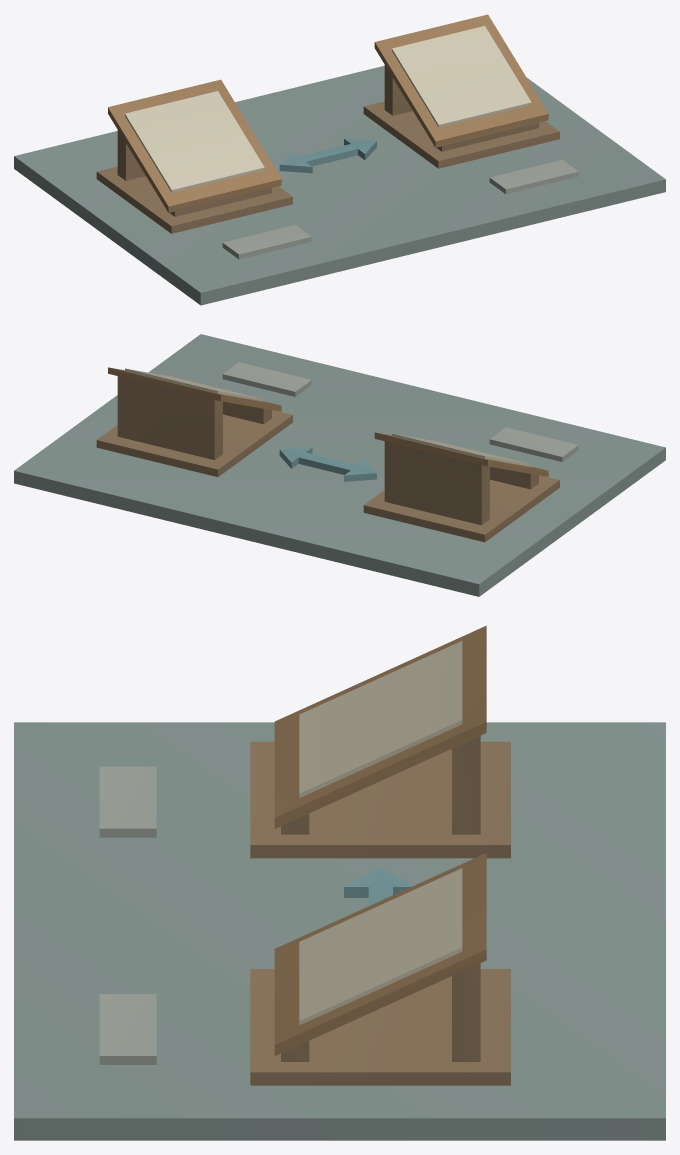
The model's file is letters-reading.glb.
3 views of the same model, one above another, from view 1: azimuth 30°, elevation 25°; view 2: azimuth 150°, elevation 25°; view 3: azimuth 270°, elevation 25° (orthographic). The views are drawn at different scales.
Parts seen in each view (by area): view 1: letters-reading-letters-modern-neutral-support, letters-reading-letters-modern-blank-document-comparison, letters-reading-letters-modern-blank-document-comparison.001, letters-reading-letters-original-plain-writing-wood.001, letters-reading-letters-original-plain-writing-wood, letters-reading-letters-original-modern-reading-stand, letters-reading-letters-original-modern-reading-stand.003, letters-reading-letters-modern-separate-reading-ends.001, letters-reading-letters-modern-separate-reading-ends, letters-reading-letters-modern-direction-marker, letters-reading-letters-original-modern-reading-stand.002, letters-reading-letters-original-modern-reading-stand.005 (+2 smaller); view 2: letters-reading-letters-modern-neutral-support, letters-reading-letters-original-modern-reading-stand.005, letters-reading-letters-original-modern-reading-stand.002, letters-reading-letters-original-modern-reading-stand.003, letters-reading-letters-original-modern-reading-stand, letters-reading-letters-modern-separate-reading-ends, letters-reading-letters-modern-separate-reading-ends.001, letters-reading-letters-modern-direction-marker, letters-reading-letters-original-plain-writing-wood, letters-reading-letters-original-plain-writing-wood.001, letters-reading-letters-modern-blank-document-comparison, letters-reading-letters-modern-blank-document-comparison.001 (+2 smaller); view 3: letters-reading-letters-modern-neutral-support, letters-reading-letters-original-modern-reading-stand, letters-reading-letters-original-modern-reading-stand.003, letters-reading-letters-modern-blank-document-comparison.001, letters-reading-letters-modern-blank-document-comparison, letters-reading-letters-original-plain-writing-wood, letters-reading-letters-original-plain-writing-wood.001, letters-reading-letters-modern-separate-reading-ends, letters-reading-letters-modern-separate-reading-ends.001, letters-reading-letters-original-modern-reading-stand.002, letters-reading-letters-original-modern-reading-stand.005, letters-reading-letters-modern-direction-marker.
Boxes of the visible parts, x1,y1,x2,y2 form: letters-reading-letters-modern-neutral-support: (14, 65, 665, 305); letters-reading-letters-modern-blank-document-comparison: (125, 91, 264, 192); letters-reading-letters-modern-blank-document-comparison.001: (392, 26, 531, 127); letters-reading-letters-original-plain-writing-wood.001: (374, 14, 548, 147); letters-reading-letters-original-plain-writing-wood: (108, 79, 281, 212); letters-reading-letters-original-modern-reading-stand: (96, 166, 292, 233); letters-reading-letters-original-modern-reading-stand.003: (363, 101, 559, 168); letters-reading-letters-modern-separate-reading-ends.001: (489, 159, 578, 194); letters-reading-letters-modern-separate-reading-ends: (222, 225, 311, 259); letters-reading-letters-modern-direction-marker: (279, 138, 376, 173); letters-reading-letters-original-modern-reading-stand.002: (117, 130, 145, 180); letters-reading-letters-original-modern-reading-stand.005: (384, 65, 412, 115); letters-reading-letters-modern-neutral-support: (14, 334, 665, 596); letters-reading-letters-original-modern-reading-stand.005: (117, 376, 222, 460); letters-reading-letters-original-modern-reading-stand.002: (384, 441, 489, 525); letters-reading-letters-original-modern-reading-stand.003: (96, 410, 292, 476); letters-reading-letters-original-modern-reading-stand: (363, 475, 559, 542); letters-reading-letters-modern-separate-reading-ends: (489, 427, 578, 461); letters-reading-letters-modern-separate-reading-ends.001: (222, 362, 311, 396); letters-reading-letters-modern-direction-marker: (279, 447, 376, 481); letters-reading-letters-original-plain-writing-wood: (374, 432, 548, 476); letters-reading-letters-original-plain-writing-wood.001: (108, 367, 281, 411); letters-reading-letters-modern-blank-document-comparison: (392, 433, 531, 466); letters-reading-letters-modern-blank-document-comparison.001: (125, 368, 264, 401); letters-reading-letters-modern-neutral-support: (14, 722, 665, 1140); letters-reading-letters-original-modern-reading-stand: (250, 741, 510, 858); letters-reading-letters-original-modern-reading-stand.003: (250, 969, 510, 1085); letters-reading-letters-modern-blank-document-comparison.001: (299, 868, 462, 1025); letters-reading-letters-modern-blank-document-comparison: (299, 641, 462, 797); letters-reading-letters-original-plain-writing-wood: (274, 625, 486, 828); letters-reading-letters-original-plain-writing-wood.001: (274, 853, 486, 1055); letters-reading-letters-modern-separate-reading-ends: (99, 766, 156, 837); letters-reading-letters-modern-separate-reading-ends.001: (99, 994, 156, 1064); letters-reading-letters-original-modern-reading-stand.002: (452, 736, 480, 834); letters-reading-letters-original-modern-reading-stand.005: (452, 963, 480, 1061); letters-reading-letters-modern-direction-marker: (344, 868, 414, 905).
Size of the model in its own units: 1.15 by 0.21 by 0.8.
